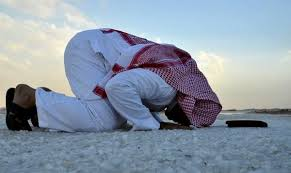sujud: (5, 27, 226, 132)
